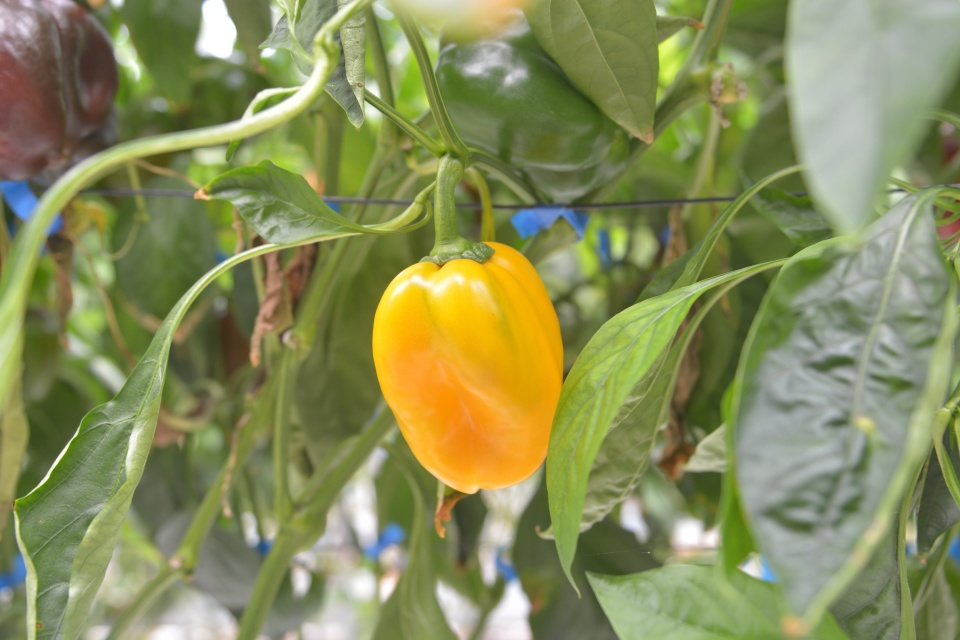fruit: (367, 236, 568, 495), (431, 11, 632, 205), (0, 0, 122, 186)
pedicle: (416, 239, 495, 268)
